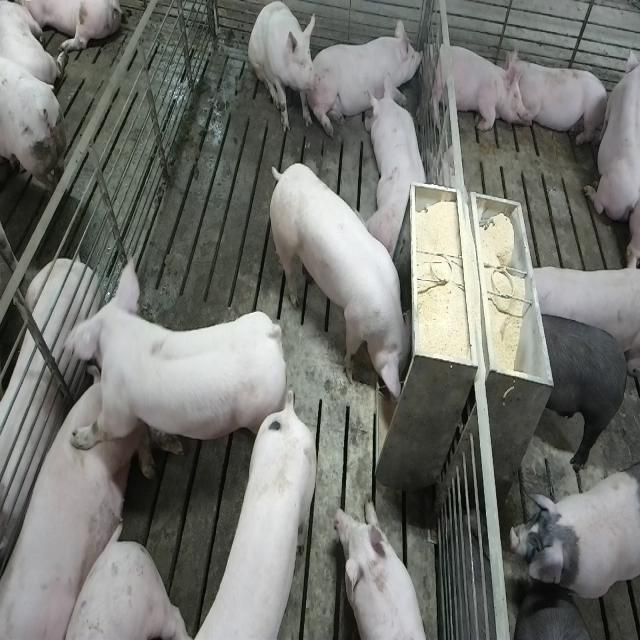Feeding: (272, 161, 420, 411)
Lateral_lying: (0, 255, 97, 579)
Sitting: (248, 2, 320, 137)
Standing: (62, 254, 291, 487), (188, 393, 320, 640), (509, 466, 637, 612), (533, 306, 626, 469), (522, 268, 636, 352), (512, 599, 604, 640)
Sternal_lying: (333, 499, 432, 640), (314, 14, 424, 138), (368, 78, 431, 256), (584, 38, 638, 230), (509, 52, 610, 148), (424, 37, 522, 135)
